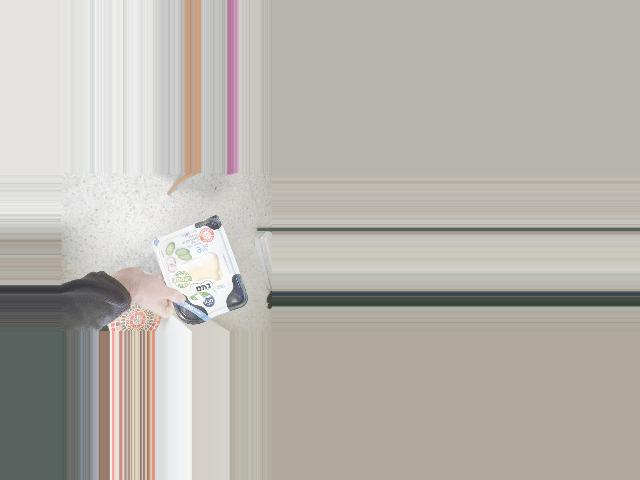cheese: (163, 226, 235, 313)
